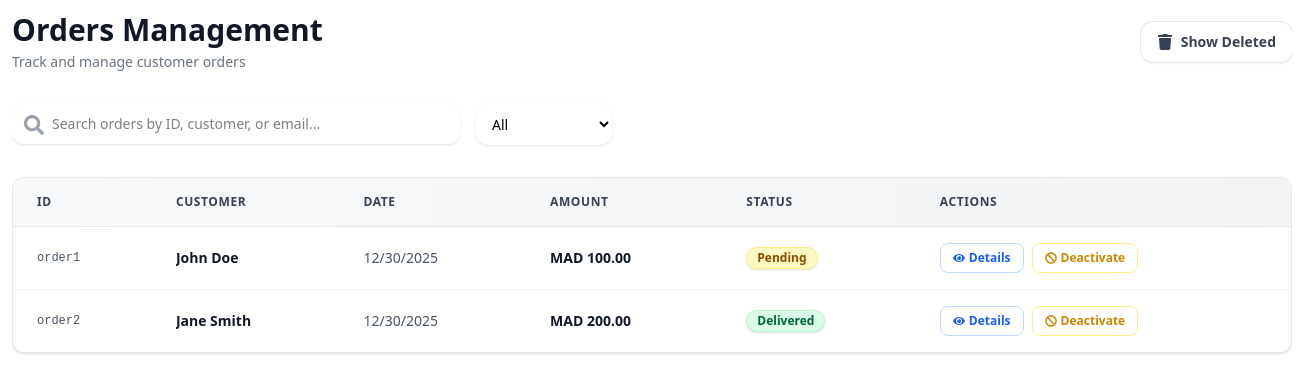
Test: AdminOrders › filters orders by status
The width and height of the screenshot is (1304, 371).
Select "Pending" in the dropdown showing "All": coordinates (544, 124) 476,104 -> 612,145
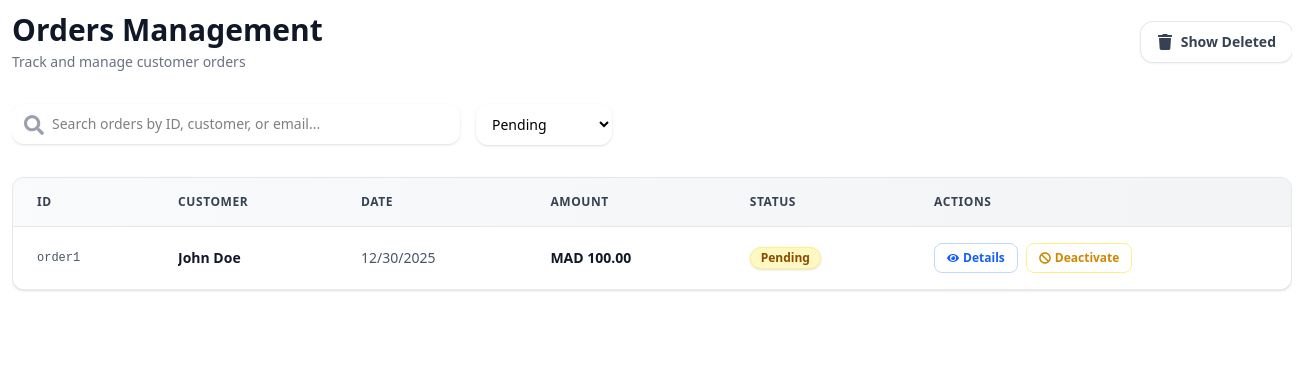
Expected: the text "John Doe" is shown, 178,248 -> 241,267
Now the text "Jane Smith" is gone
